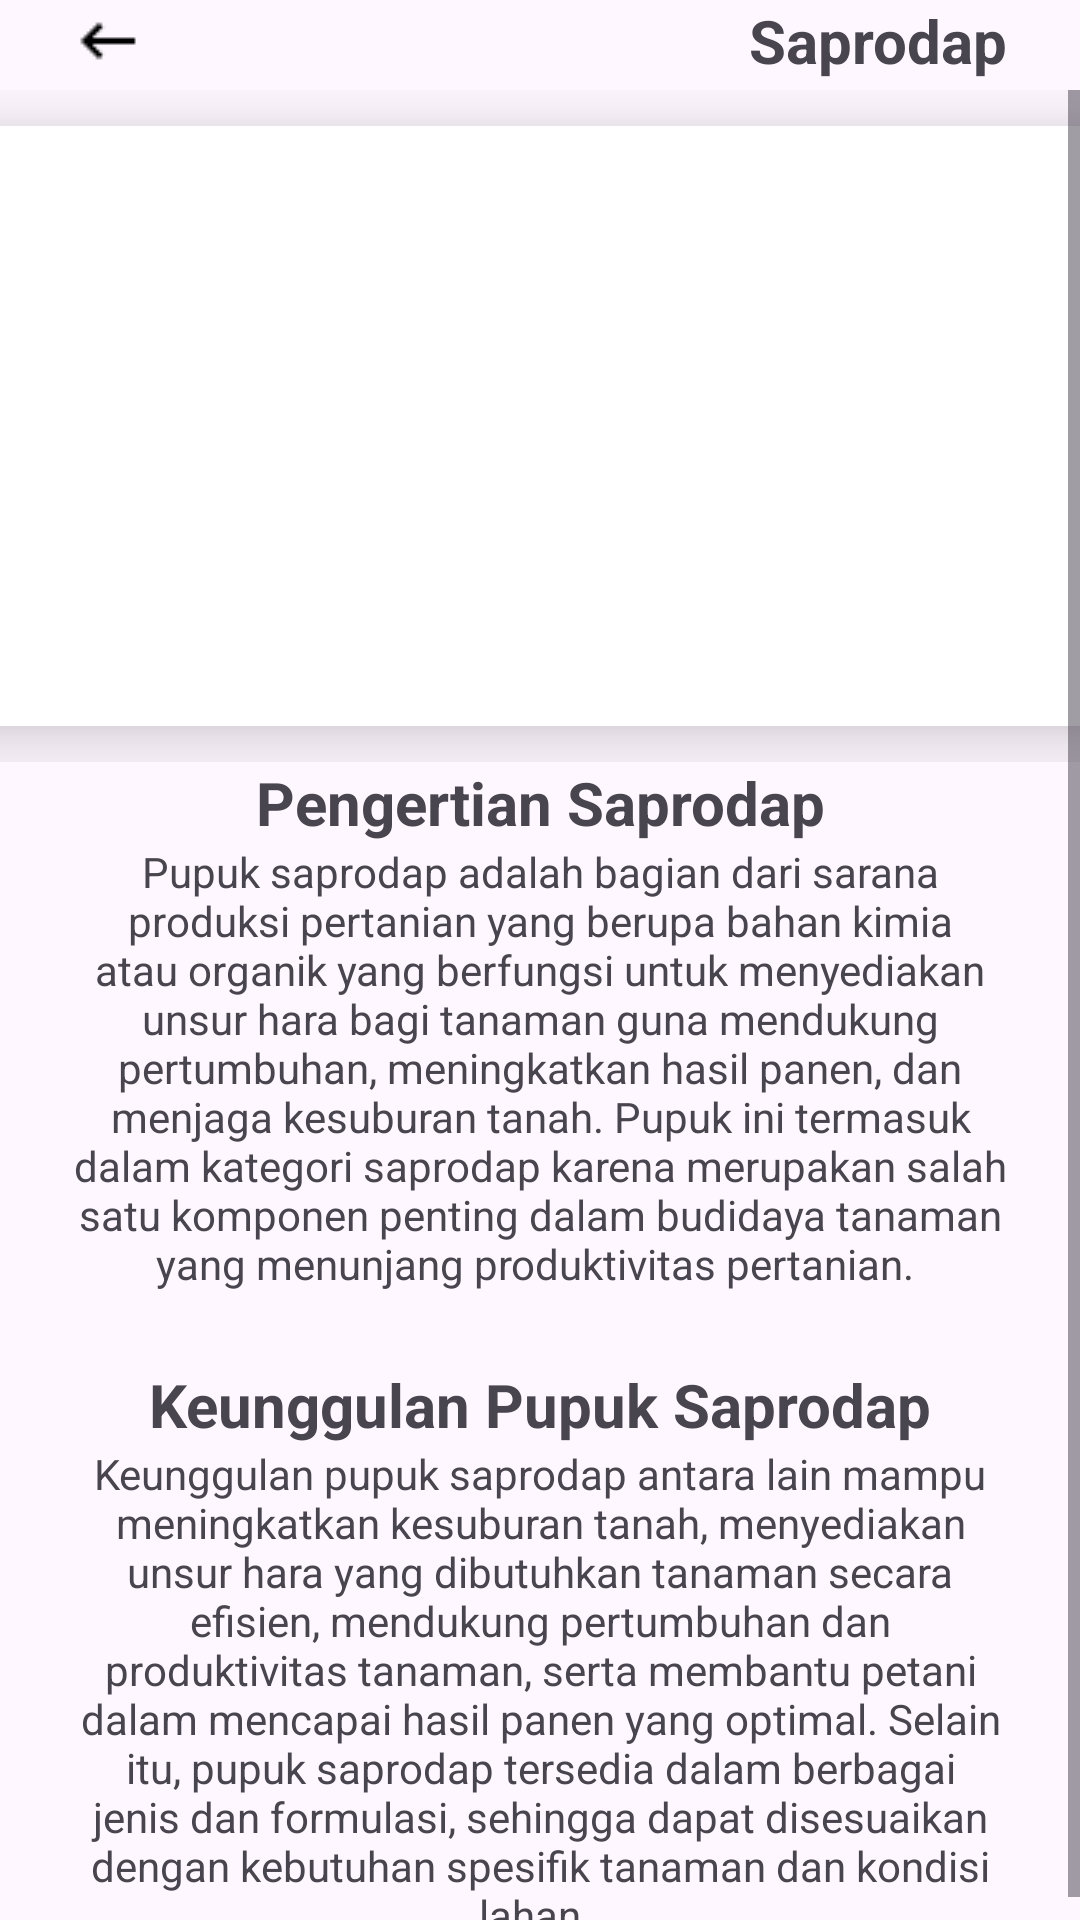

Where to tap for icons on this 1080w x 1920h app screen, as point (x, y):
keyboard backspace: point (108, 41)
